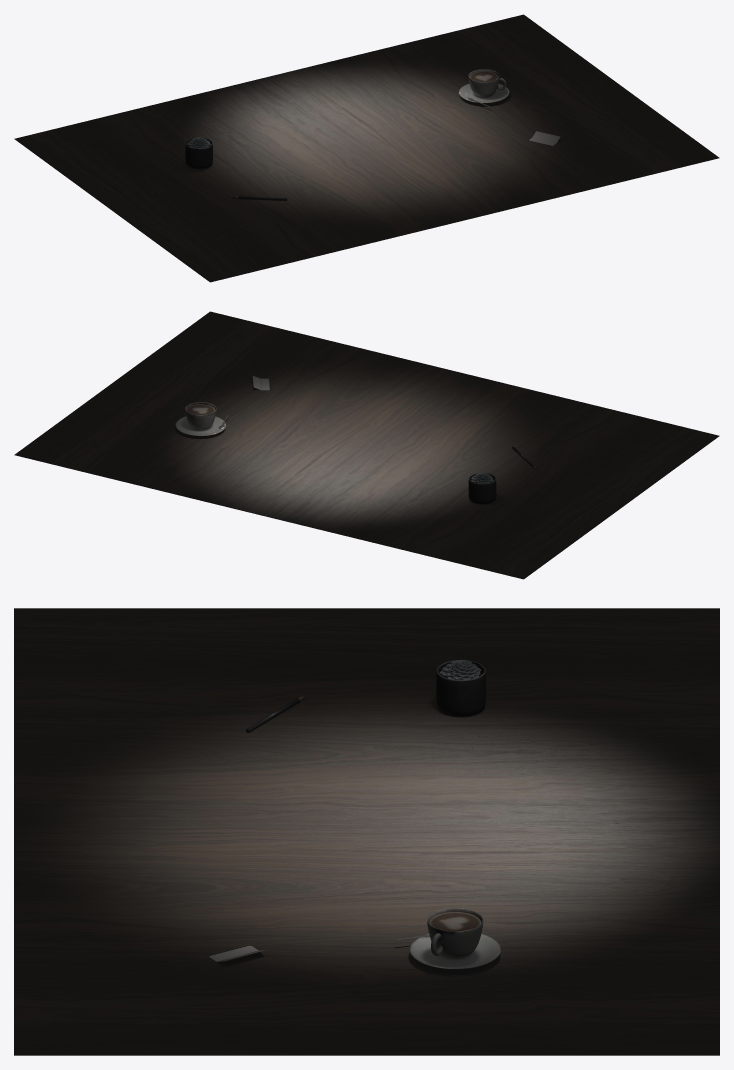
Rendered from desk.glb.
3 renders of one model, top to bottom at view 1: azimuth 30°, elevation 25°; view 2: azimuth 150°, elevation 25°; view 3: azimuth 270°, elevation 25°, orthographic. The views are drawn at different scales.
Visible parts, largest first — view 1: Desk, Latte.001, Succulent.001; view 2: Desk, Latte.001, Succulent.001; view 3: Desk, Latte.001, Succulent.001.
Part boxes in pixels (bbox=[...]): Desk: bbox=[14, 14, 719, 282]; Latte.001: bbox=[458, 69, 509, 106]; Succulent.001: bbox=[185, 137, 212, 168]; Desk: bbox=[14, 311, 719, 579]; Latte.001: bbox=[175, 402, 228, 436]; Succulent.001: bbox=[468, 472, 496, 503]; Desk: bbox=[14, 608, 719, 1055]; Latte.001: bbox=[395, 908, 500, 969]; Succulent.001: bbox=[436, 659, 485, 716].
Size of the model in its own units: 1.8 by 0.0851 by 1.2.
Materials: 5 (5 with a texture image).
